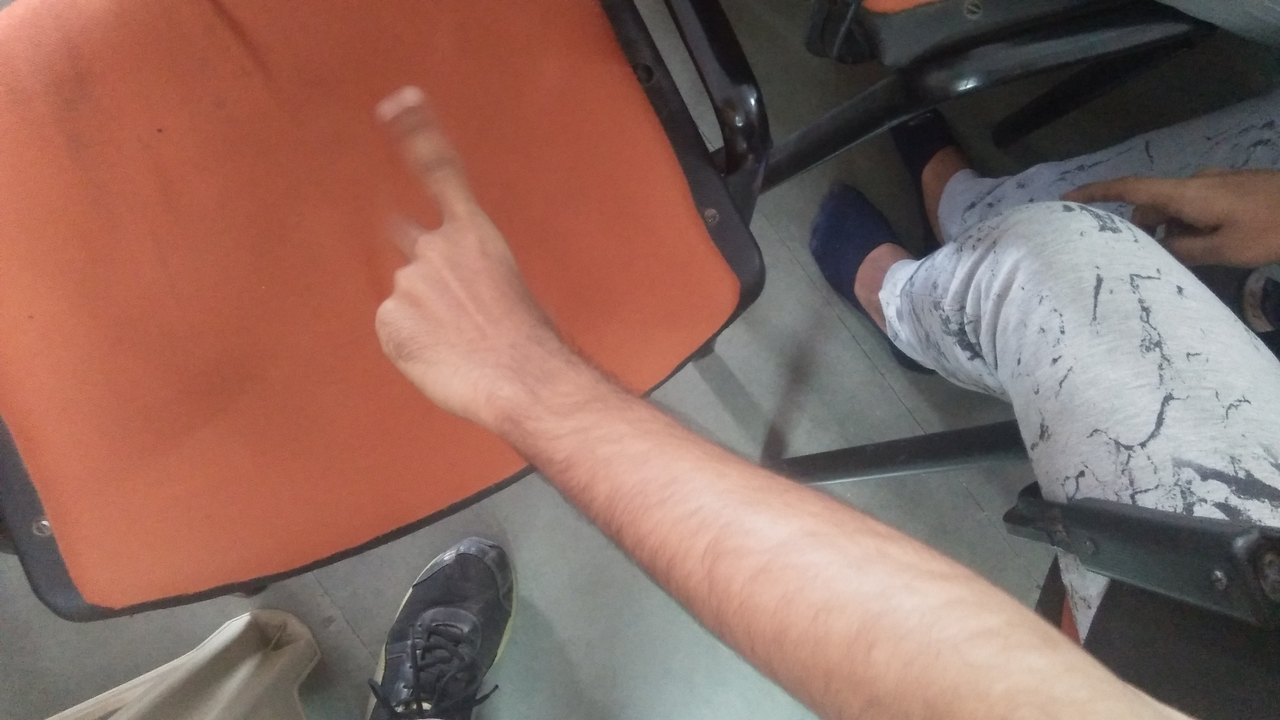fingertip: (364, 82, 440, 132)
